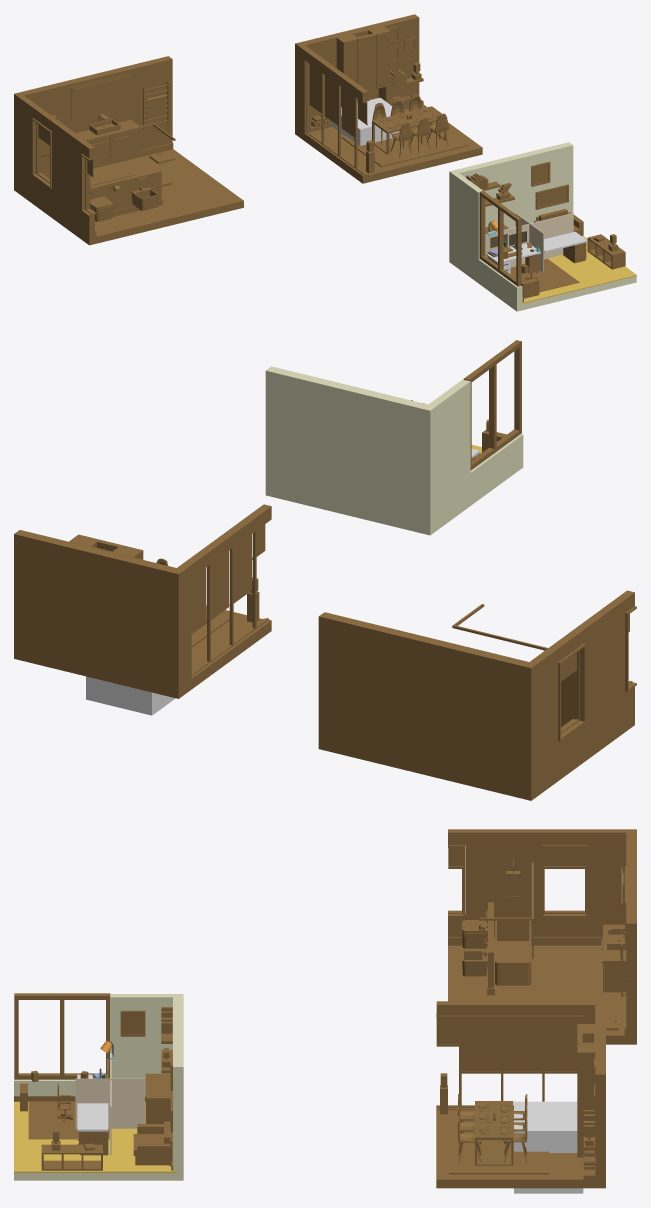
Rendered from 桌前场景.fbx.
3 views of the same model, one above another, from view 1: azimuth 30°, elevation 25°; view 2: azimuth 150°, elevation 25°; view 3: azimuth 270°, elevation 25° (orthographic). The views are drawn at different scales.
Parts seen in each view (by area): view 1: Cube.1, 地板, Cube.004_Cube.005.37, Cube.004_Cube.005.45, Cube.41, 地板.001, Cube.004_Cube.005.129, 窗户, Cube.4, 平面, Cube.004_Cube.005.67, Cube (+18 smaller); view 2: Cube.1, 地板, Cube.004_Cube.005.37, 窗户, Cube, Cube.004_Cube.005.67, Cube.7, Cube.004_Cube.005.38, Cube.004_Cube.005.40, Cube.004_Cube.005.39, Cube.004_Cube.005.45; view 3: Cube.1, Cube.004_Cube.005.37, 地板, 地板.001, Cube.3, Cube, Cube.004_Cube.005.129, 平面.001, Cube.21, Cube.004_Cube.005.38, Cube.004_Cube.005.40, 窗户 (+18 smaller).
Boxes of the visible parts, x1,y1,x2,y2 form: Cube.1: (14, 56, 243, 245); 地板: (449, 142, 636, 311); Cube.004_Cube.005.37: (295, 14, 482, 183); Cube.004_Cube.005.45: (336, 26, 390, 107); Cube.41: (71, 73, 131, 120); 地板.001: (511, 235, 636, 303); Cube.004_Cube.005.129: (341, 122, 469, 167); 窗户: (479, 191, 521, 286); Cube.4: (90, 169, 162, 221); 平面: (485, 213, 573, 267); Cube.004_Cube.005.67: (306, 62, 366, 176); Cube: (332, 97, 399, 145); Cube.1: (318, 590, 634, 800); 地板: (265, 366, 523, 535); Cube.004_Cube.005.37: (14, 504, 271, 698); 窗户: (463, 340, 521, 470); Cube: (86, 676, 175, 715); Cube.004_Cube.005.67: (191, 530, 268, 675); Cube.7: (558, 644, 585, 741); Cube.004_Cube.005.38: (229, 534, 251, 605); Cube.004_Cube.005.40: (206, 551, 228, 622); Cube.004_Cube.005.39: (191, 567, 206, 633); Cube.004_Cube.005.45: (69, 534, 143, 559); Cube.1: (448, 829, 636, 1044); Cube.004_Cube.005.37: (436, 1001, 605, 1188); 地板: (14, 994, 183, 1180); 地板.001: (14, 1102, 176, 1172); Cube.3: (533, 947, 595, 1001); Cube: (514, 1101, 583, 1193); Cube.004_Cube.005.129: (449, 1119, 548, 1174); 平面.001: (75, 1078, 144, 1128); Cube.21: (495, 920, 531, 985); Cube.004_Cube.005.38: (461, 1017, 500, 1073); Cube.004_Cube.005.40: (503, 1017, 542, 1073); 窗户: (14, 993, 110, 1079).
Size of what is drawn, in the model's own units: 1625 by 488 by 1794.
